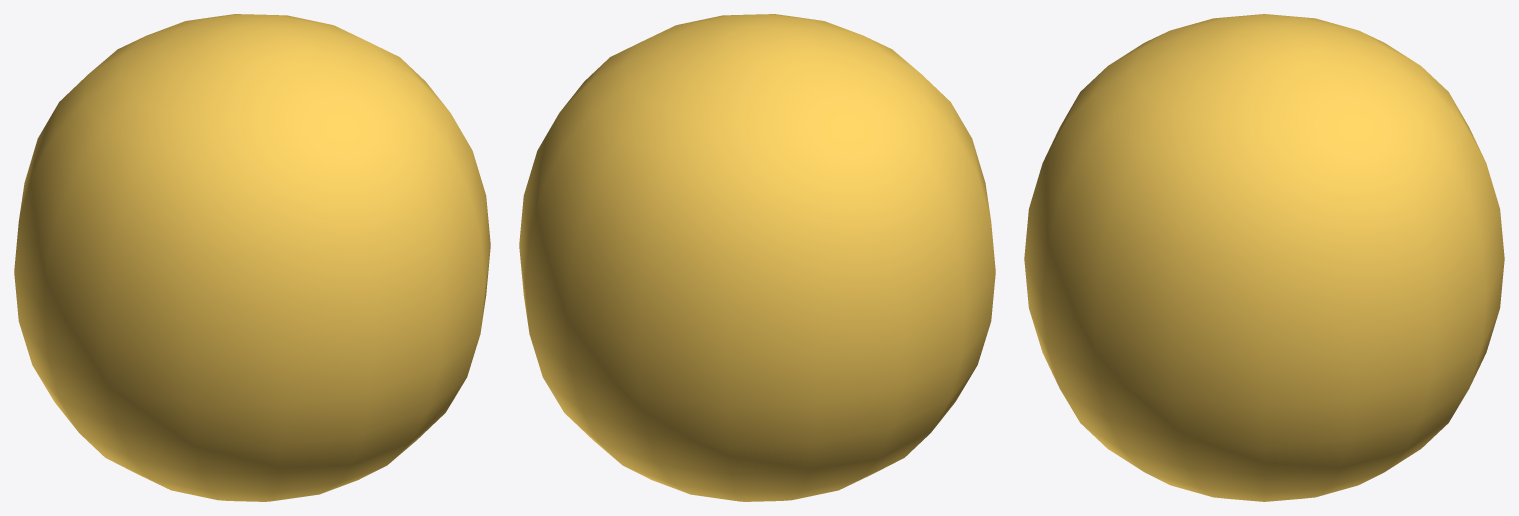
The model's file is Ice Cream Yellow.fbx.
The picture shows the model from 3 angles, left to right: view 1: azimuth 30°, elevation 25°; view 2: azimuth 150°, elevation 25°; view 3: azimuth 270°, elevation 25°; orthographic projection.
Parts seen in each view (by area): view 1: Ice Cream Yellow; view 2: Ice Cream Yellow; view 3: Ice Cream Yellow.
Boxes of the visible parts, x1,y1,x2,y2 form: Ice Cream Yellow: (14,14,490,501); Ice Cream Yellow: (519,14,995,501); Ice Cream Yellow: (1024,14,1504,501).
Size of the model in its own units: 0.4671 by 0.4738 by 0.4671.
